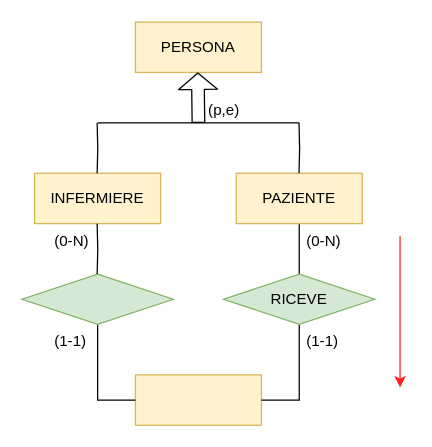
Image size: 432x447. Some labels were removed from this diagram. The centre of each missing label's shape, as x and y in pixels:
EFFETTUA: point (97, 298)
VACCINAZIONE: point (197, 399)
